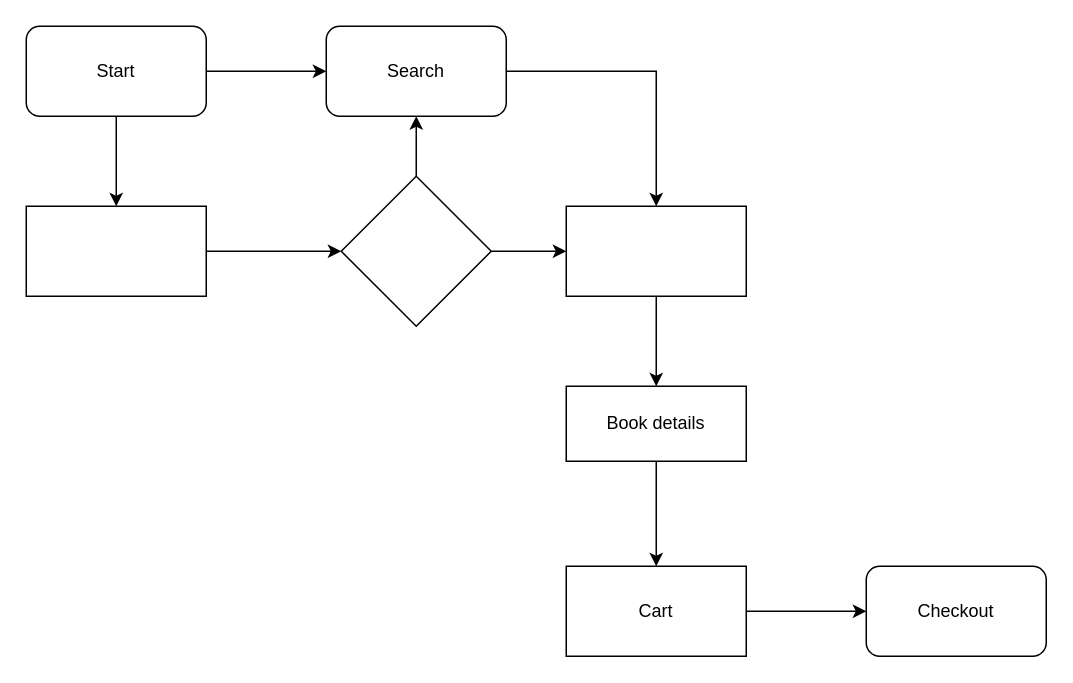
Some shapes in this 1073 by 683 pixel diagram are drawn without their labels. The centre of each missing label's shape, as x and y in pixels:
"Categories" belongs at (655,250).
"Home page" belongs at (115,250).
"Pages" belongs at (415,250).
